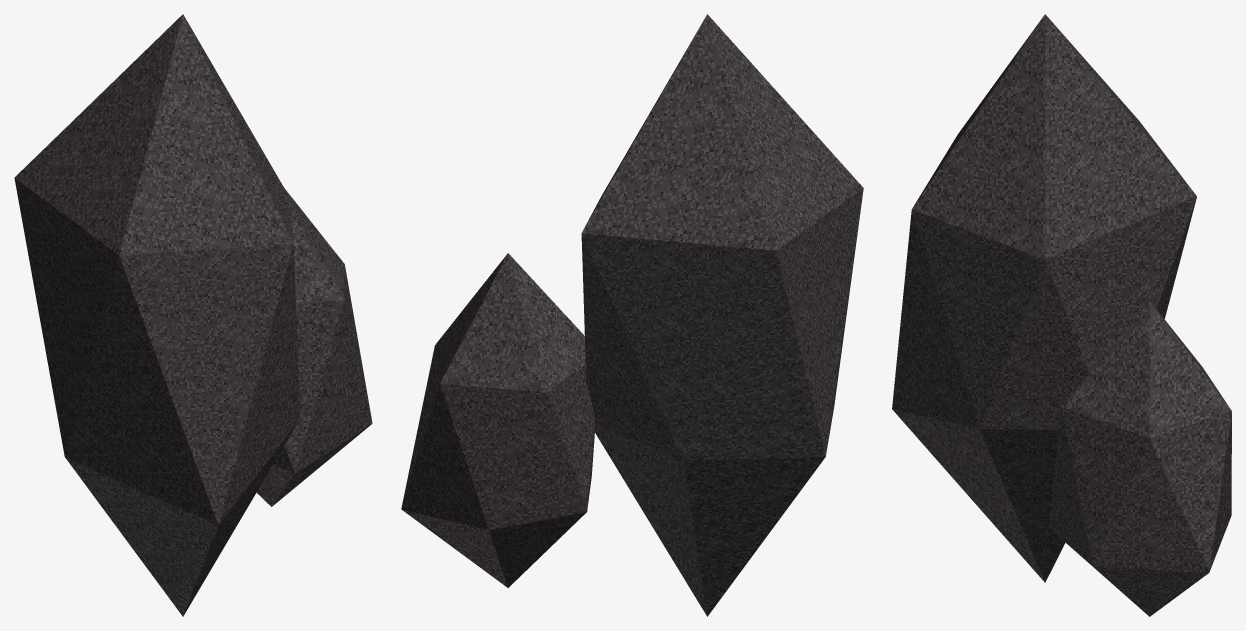
File: rock_basalt.glb
3 views of the same model, side by side, from view 1: azimuth 30°, elevation 25°; view 2: azimuth 150°, elevation 25°; view 3: azimuth 270°, elevation 25° (orthographic). The views are drawn at different scales.
Visible parts, largest first — view 1: Body.018; view 2: Body.018; view 3: Body.018.
Boxes of the visible parts, bbox=[...] form: Body.018: bbox=[14, 14, 372, 616]; Body.018: bbox=[401, 14, 863, 616]; Body.018: bbox=[892, 14, 1231, 616].
Bounding box in the file's own units: 1.41 × 2.4 × 1.3.
Materials: 1 (1 with a texture image).
